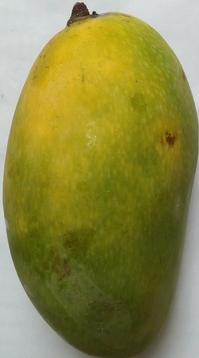PartiallyRipe: (1, 0, 199, 358)
